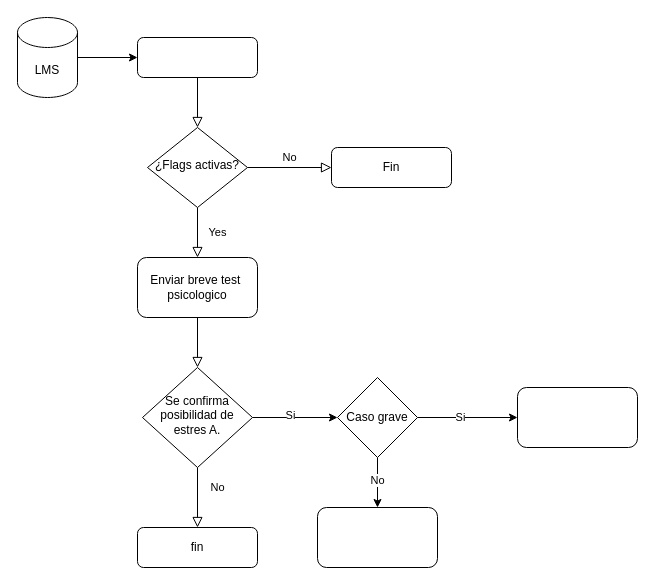
This 655x585 diagram has some shape labels left out. The shapes that lost their labels are listed below. From the top down, each one's box as (x1, y1, x2, y2) in pixels, then its label:
(136, 36, 258, 78): Procesar data del LMS
(516, 386, 638, 448): Remitir caso a bienestar estudiantil
(316, 506, 438, 568): Generar alerta y plan de estudios
